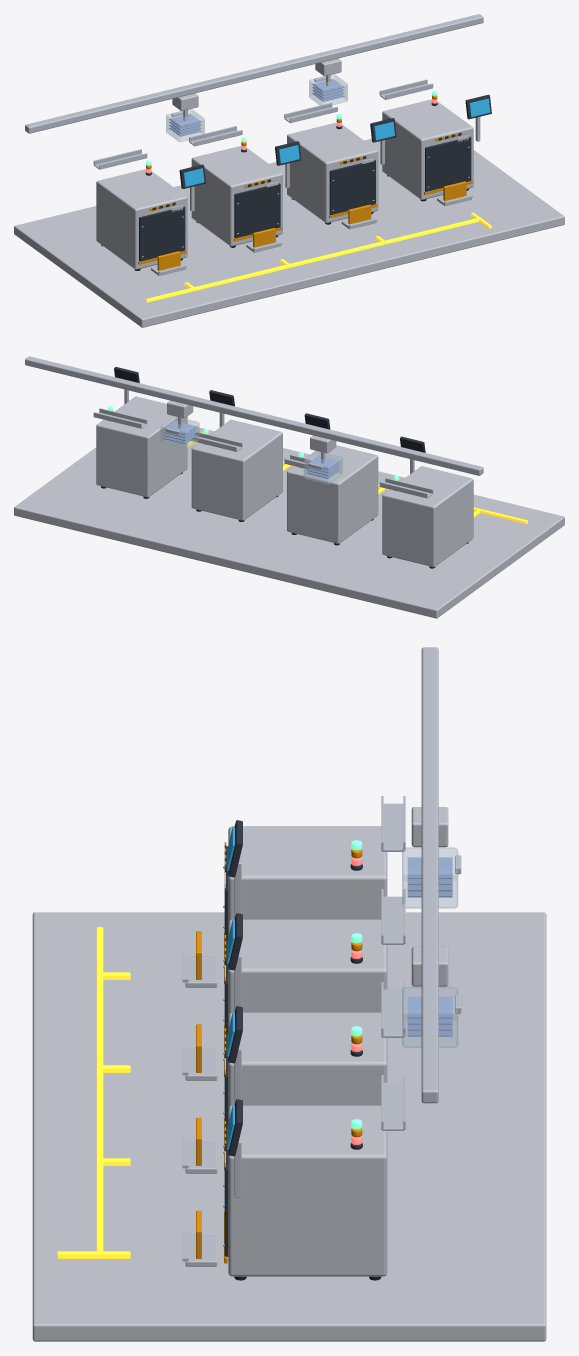
File: fab-route.glb
The picture shows the model from 3 angles, top to bottom: view 1: azimuth 30°, elevation 25°; view 2: azimuth 150°, elevation 25°; view 3: azimuth 270°, elevation 25°; orthographic projection. The views are drawn at different scales.
Parts seen in each view (by area): view 1: floor, t0_cab, t1_cab, t2_cab, t3_cab, rail, t1_face, t0_face, t2_face, t3_face, foup1_shell, foup0_shell (+3 smaller); view 2: floor, t2_cab, t0_cab, t1_cab, t3_cab, rail, foup0_shell, foup1_shell, oht0, oht1; view 3: floor, t3_cab, t1_cab, t0_cab, t2_cab, rail, foup0_shell, foup1_shell, ct0_bed, ct1_bed, ct2_bed, ct3_bed (+2 smaller).
Boxes of the visible parts, x1,y1,x2,y2 form: floor: [14, 139, 564, 327]; t0_cab: [96, 169, 187, 269]; t1_cab: [191, 146, 282, 246]; t2_cab: [287, 122, 378, 223]; t3_cab: [382, 99, 473, 199]; rail: [25, 14, 483, 133]; t1_face: [234, 183, 280, 238]; t0_face: [139, 206, 185, 261]; t2_face: [329, 160, 375, 214]; t3_face: [425, 136, 471, 191]; foup1_shell: [309, 74, 347, 106]; foup0_shell: [166, 109, 204, 142]; floor: [14, 427, 564, 618]; t2_cab: [191, 419, 282, 520]; t0_cab: [382, 466, 473, 567]; t1_cab: [287, 445, 378, 543]; t3_cab: [96, 396, 187, 497]; rail: [25, 356, 483, 475]; foup0_shell: [303, 451, 342, 484]; foup1_shell: [160, 416, 199, 449]; oht0: [310, 435, 336, 453]; oht1: [167, 400, 193, 418]; floor: [32, 912, 546, 1341]; t3_cab: [228, 1105, 387, 1276]; t1_cab: [228, 919, 387, 1015]; t0_cab: [228, 826, 387, 922]; t2_cab: [228, 1012, 387, 1108]; rail: [421, 647, 438, 1103]; foup0_shell: [402, 847, 458, 908]; foup1_shell: [402, 987, 458, 1047]; ct0_bed: [382, 803, 404, 851]; ct1_bed: [382, 896, 404, 944]; ct2_bed: [382, 989, 404, 1037]; ct3_bed: [382, 1082, 404, 1130].
Bounding box in the file's own units: 8.6 × 2.41 × 4.2.
